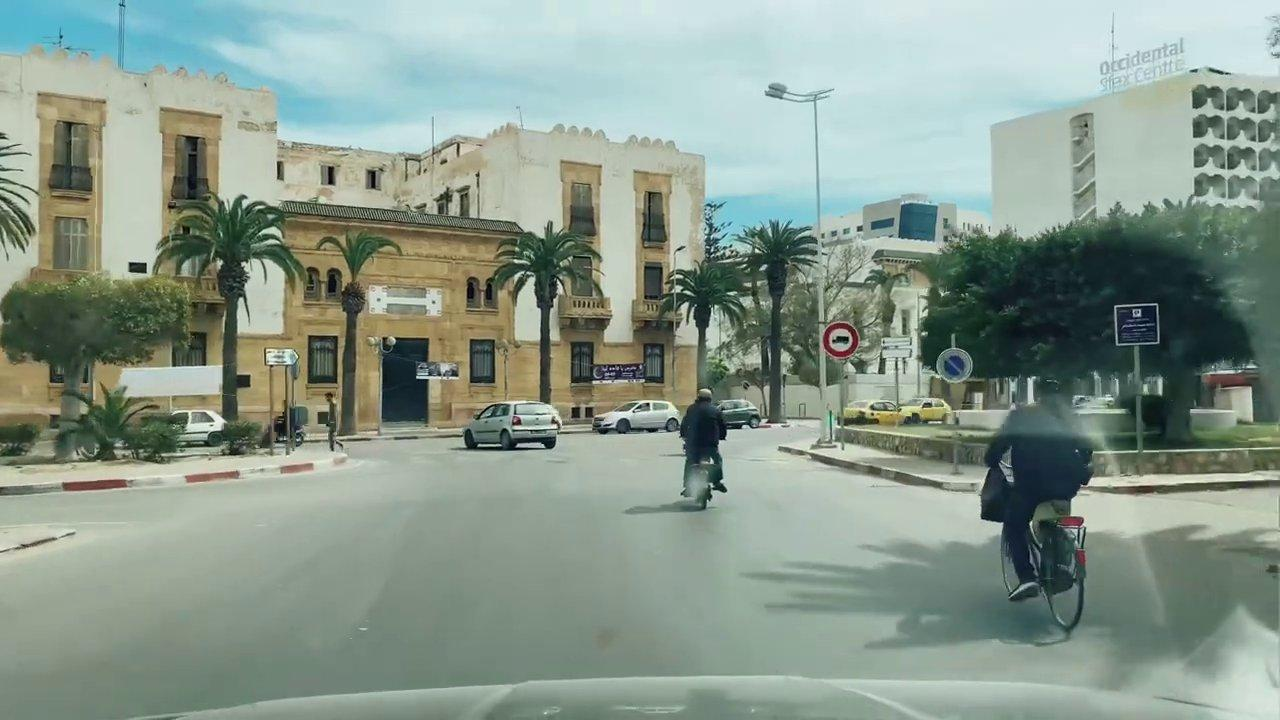no parking: (936, 347, 974, 385)
no trucks: (821, 321, 862, 359)
